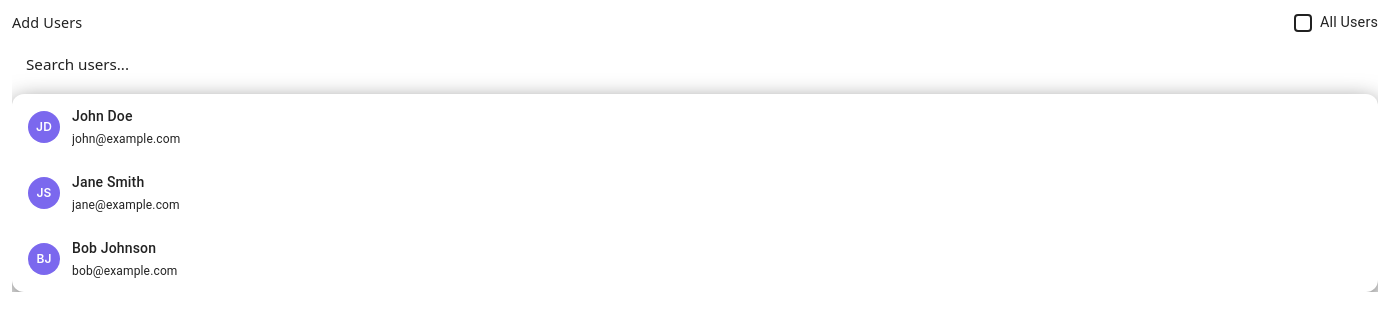
Test: UserSelectionPanel › Search Functionality › should filter users by username
Type "jdoe" into the field with placeholder "Search users..." at (695, 64), box [12, 42, 1378, 86]
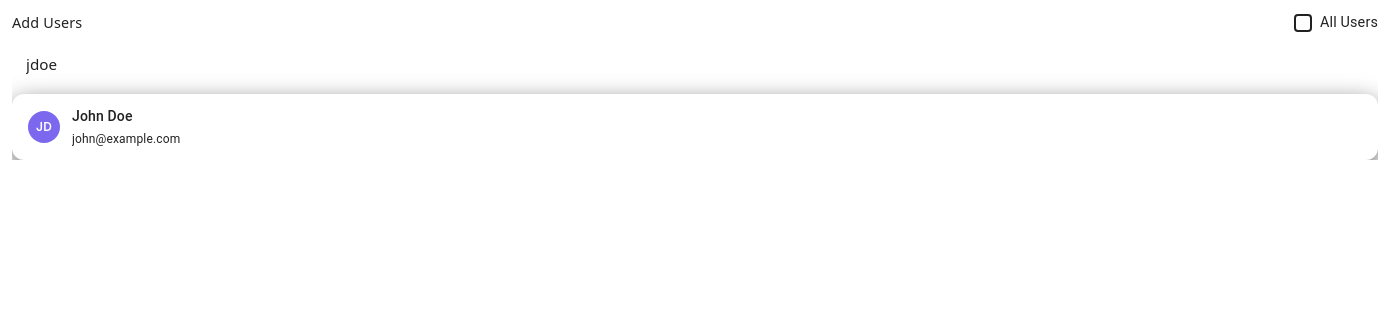
Expected: the button "Jane Smith" is gone
Expected: the button "Bob Johnson" is gone
